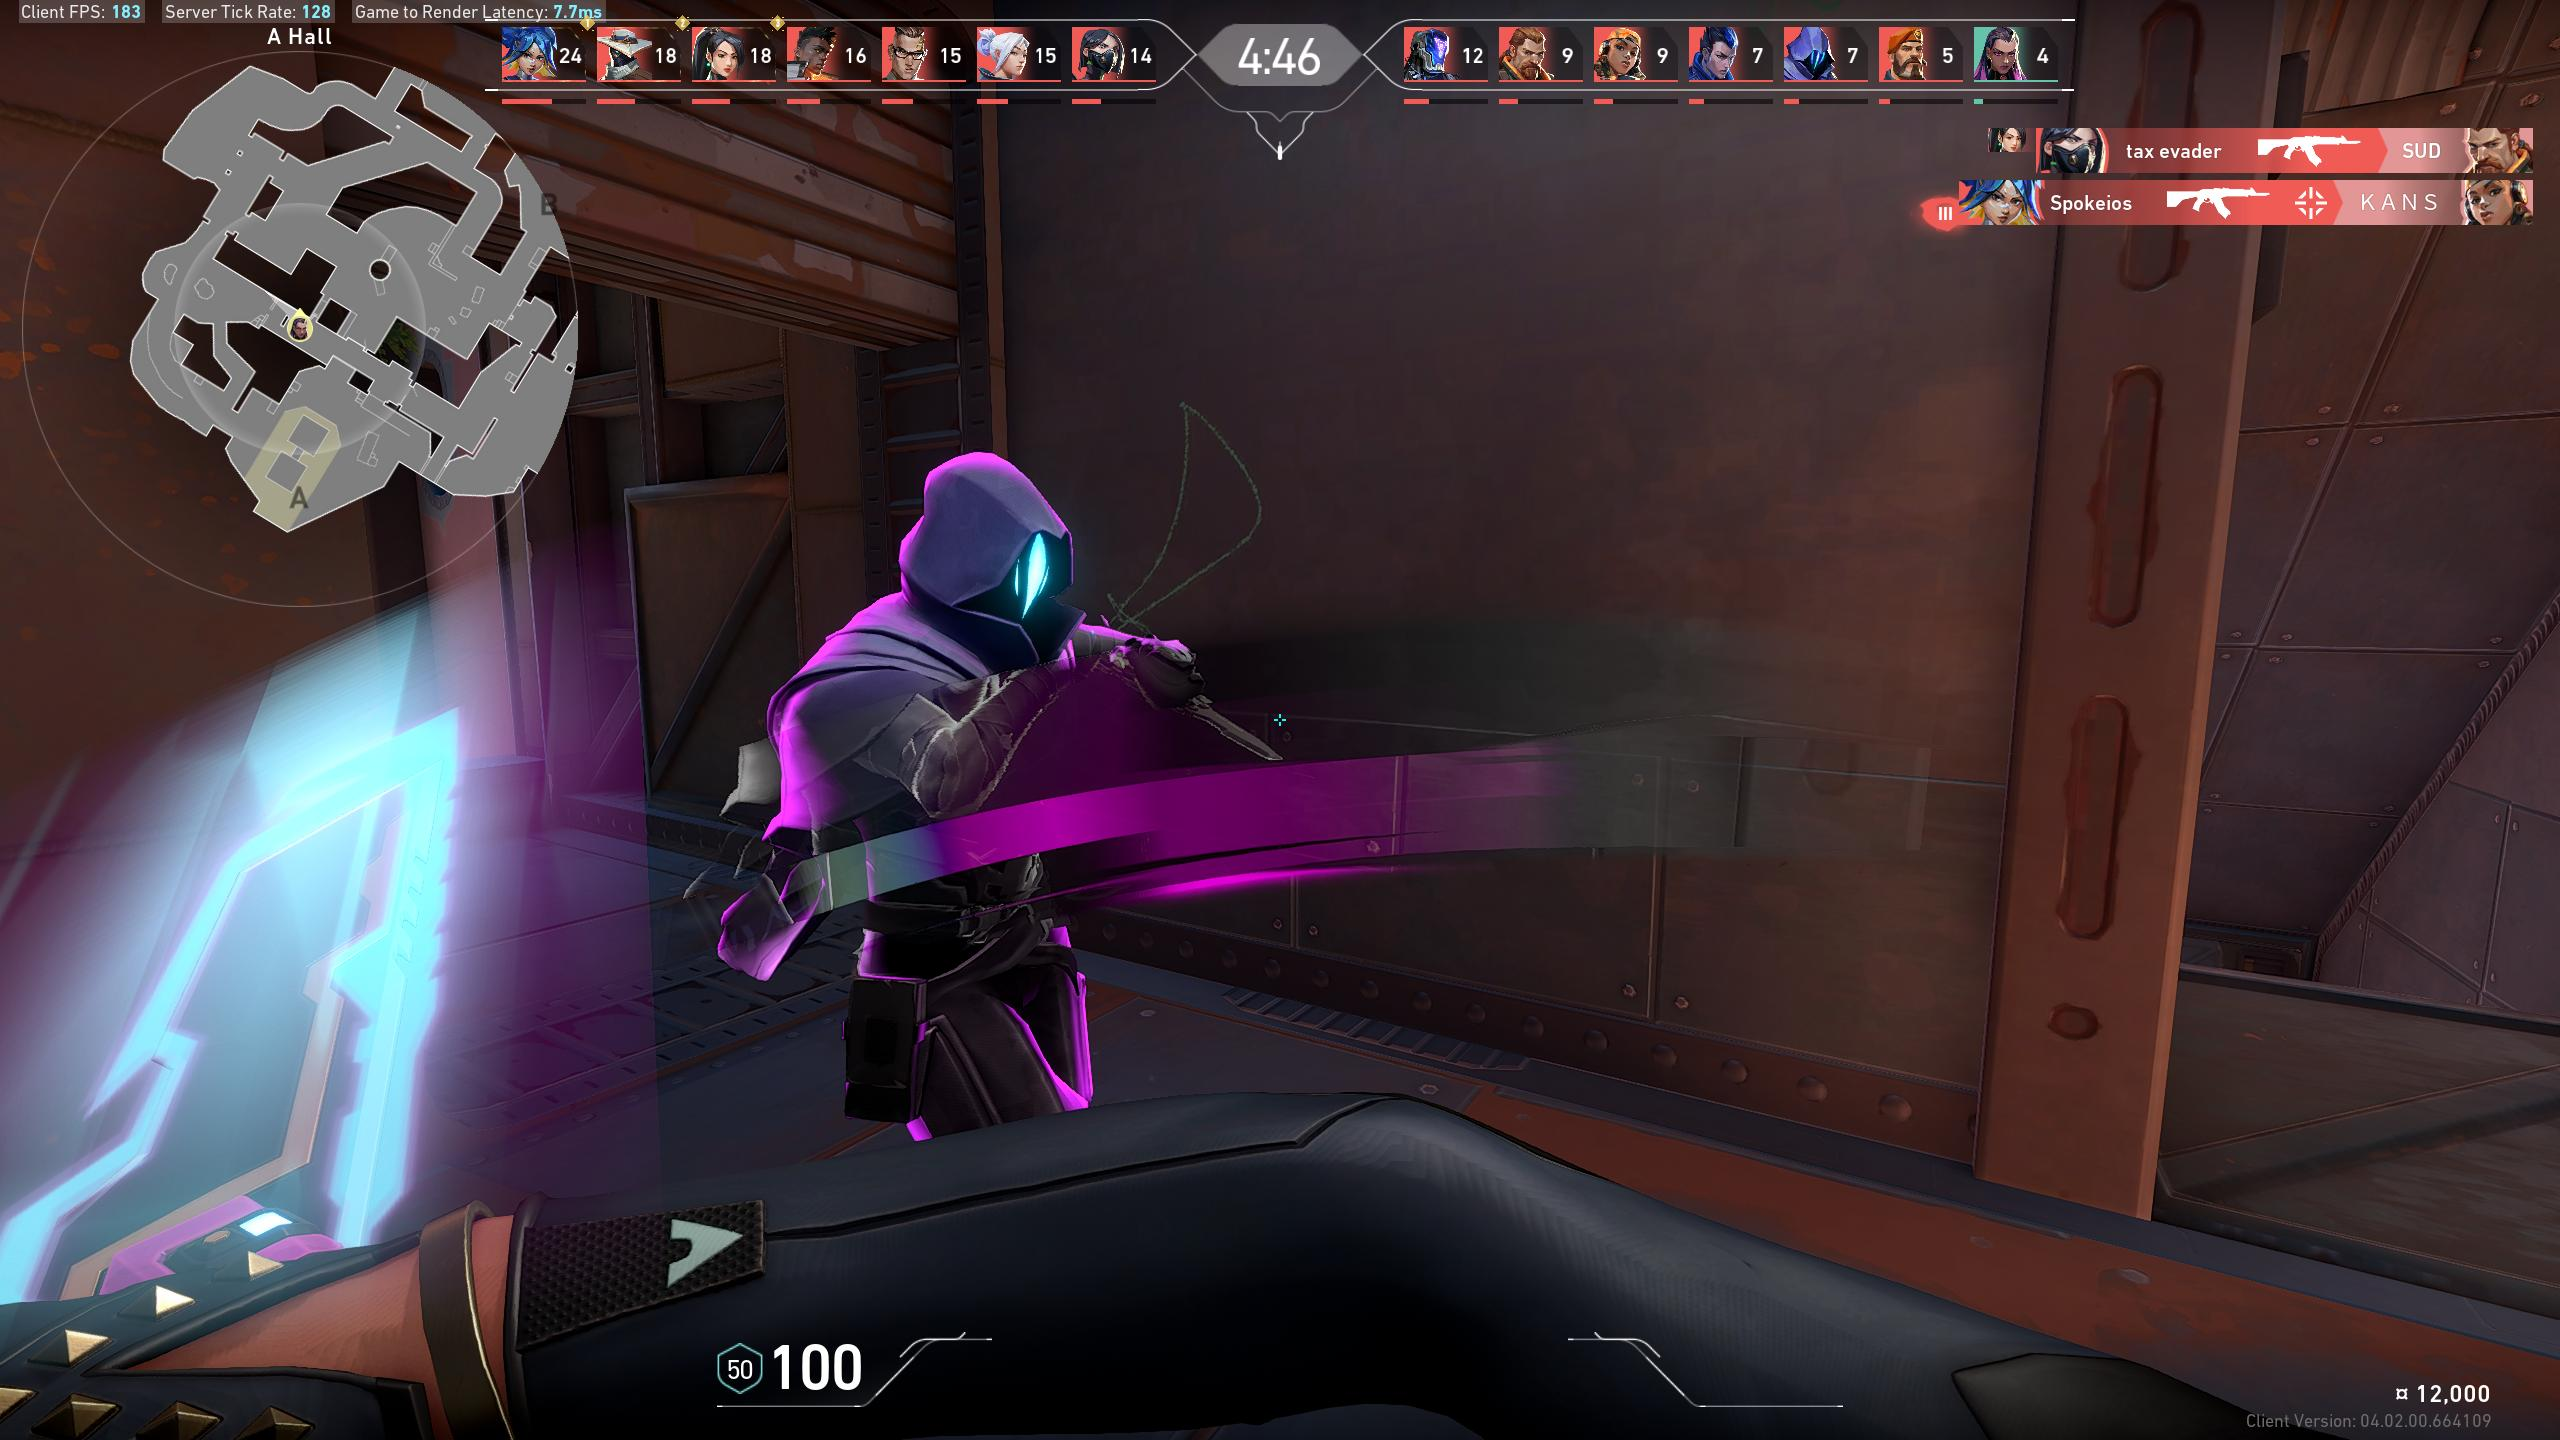enemyBody: (883, 675, 1037, 974)
enemyHead: (941, 485, 1036, 621)
